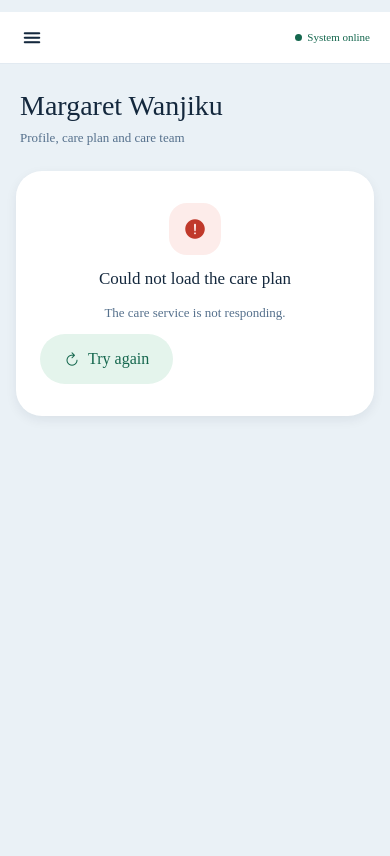
the three states › offers a retry when the care plan fails to load
Expected: the heading "Could not load the care plan" is shown, [99,267,291,291]
Click the button labelled "Try again" at (107, 359), box [40,334,173,384]
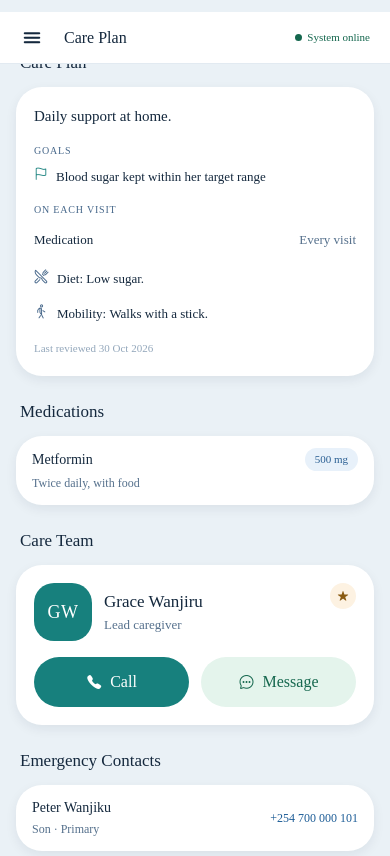
Expected: the text "Metformin" is shown, [32,452,93,466]
